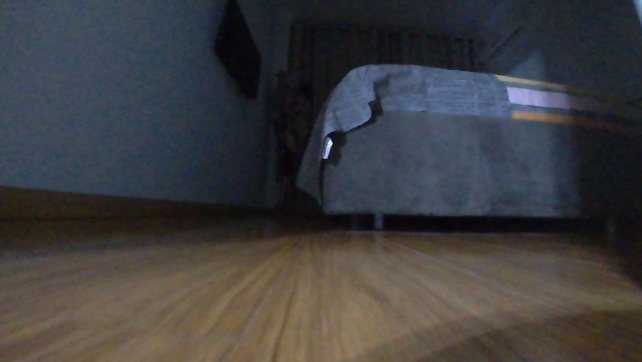bed1: (290, 57, 581, 232)
